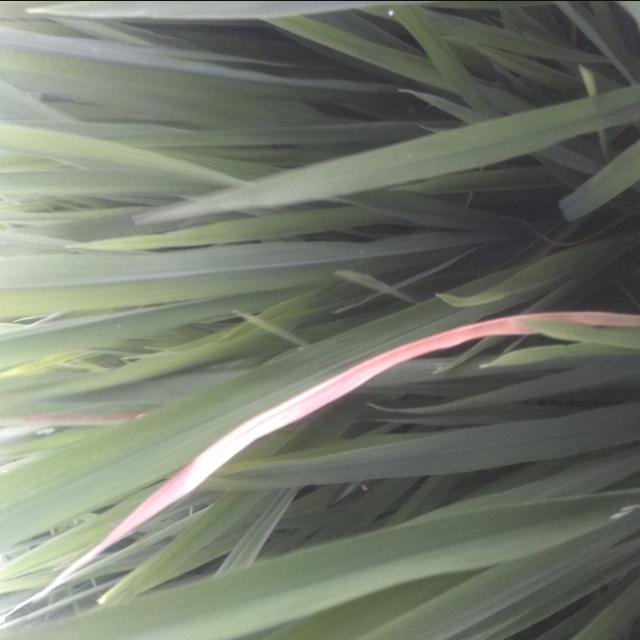Brown spot: (8, 272, 640, 617), (0, 400, 169, 432)
